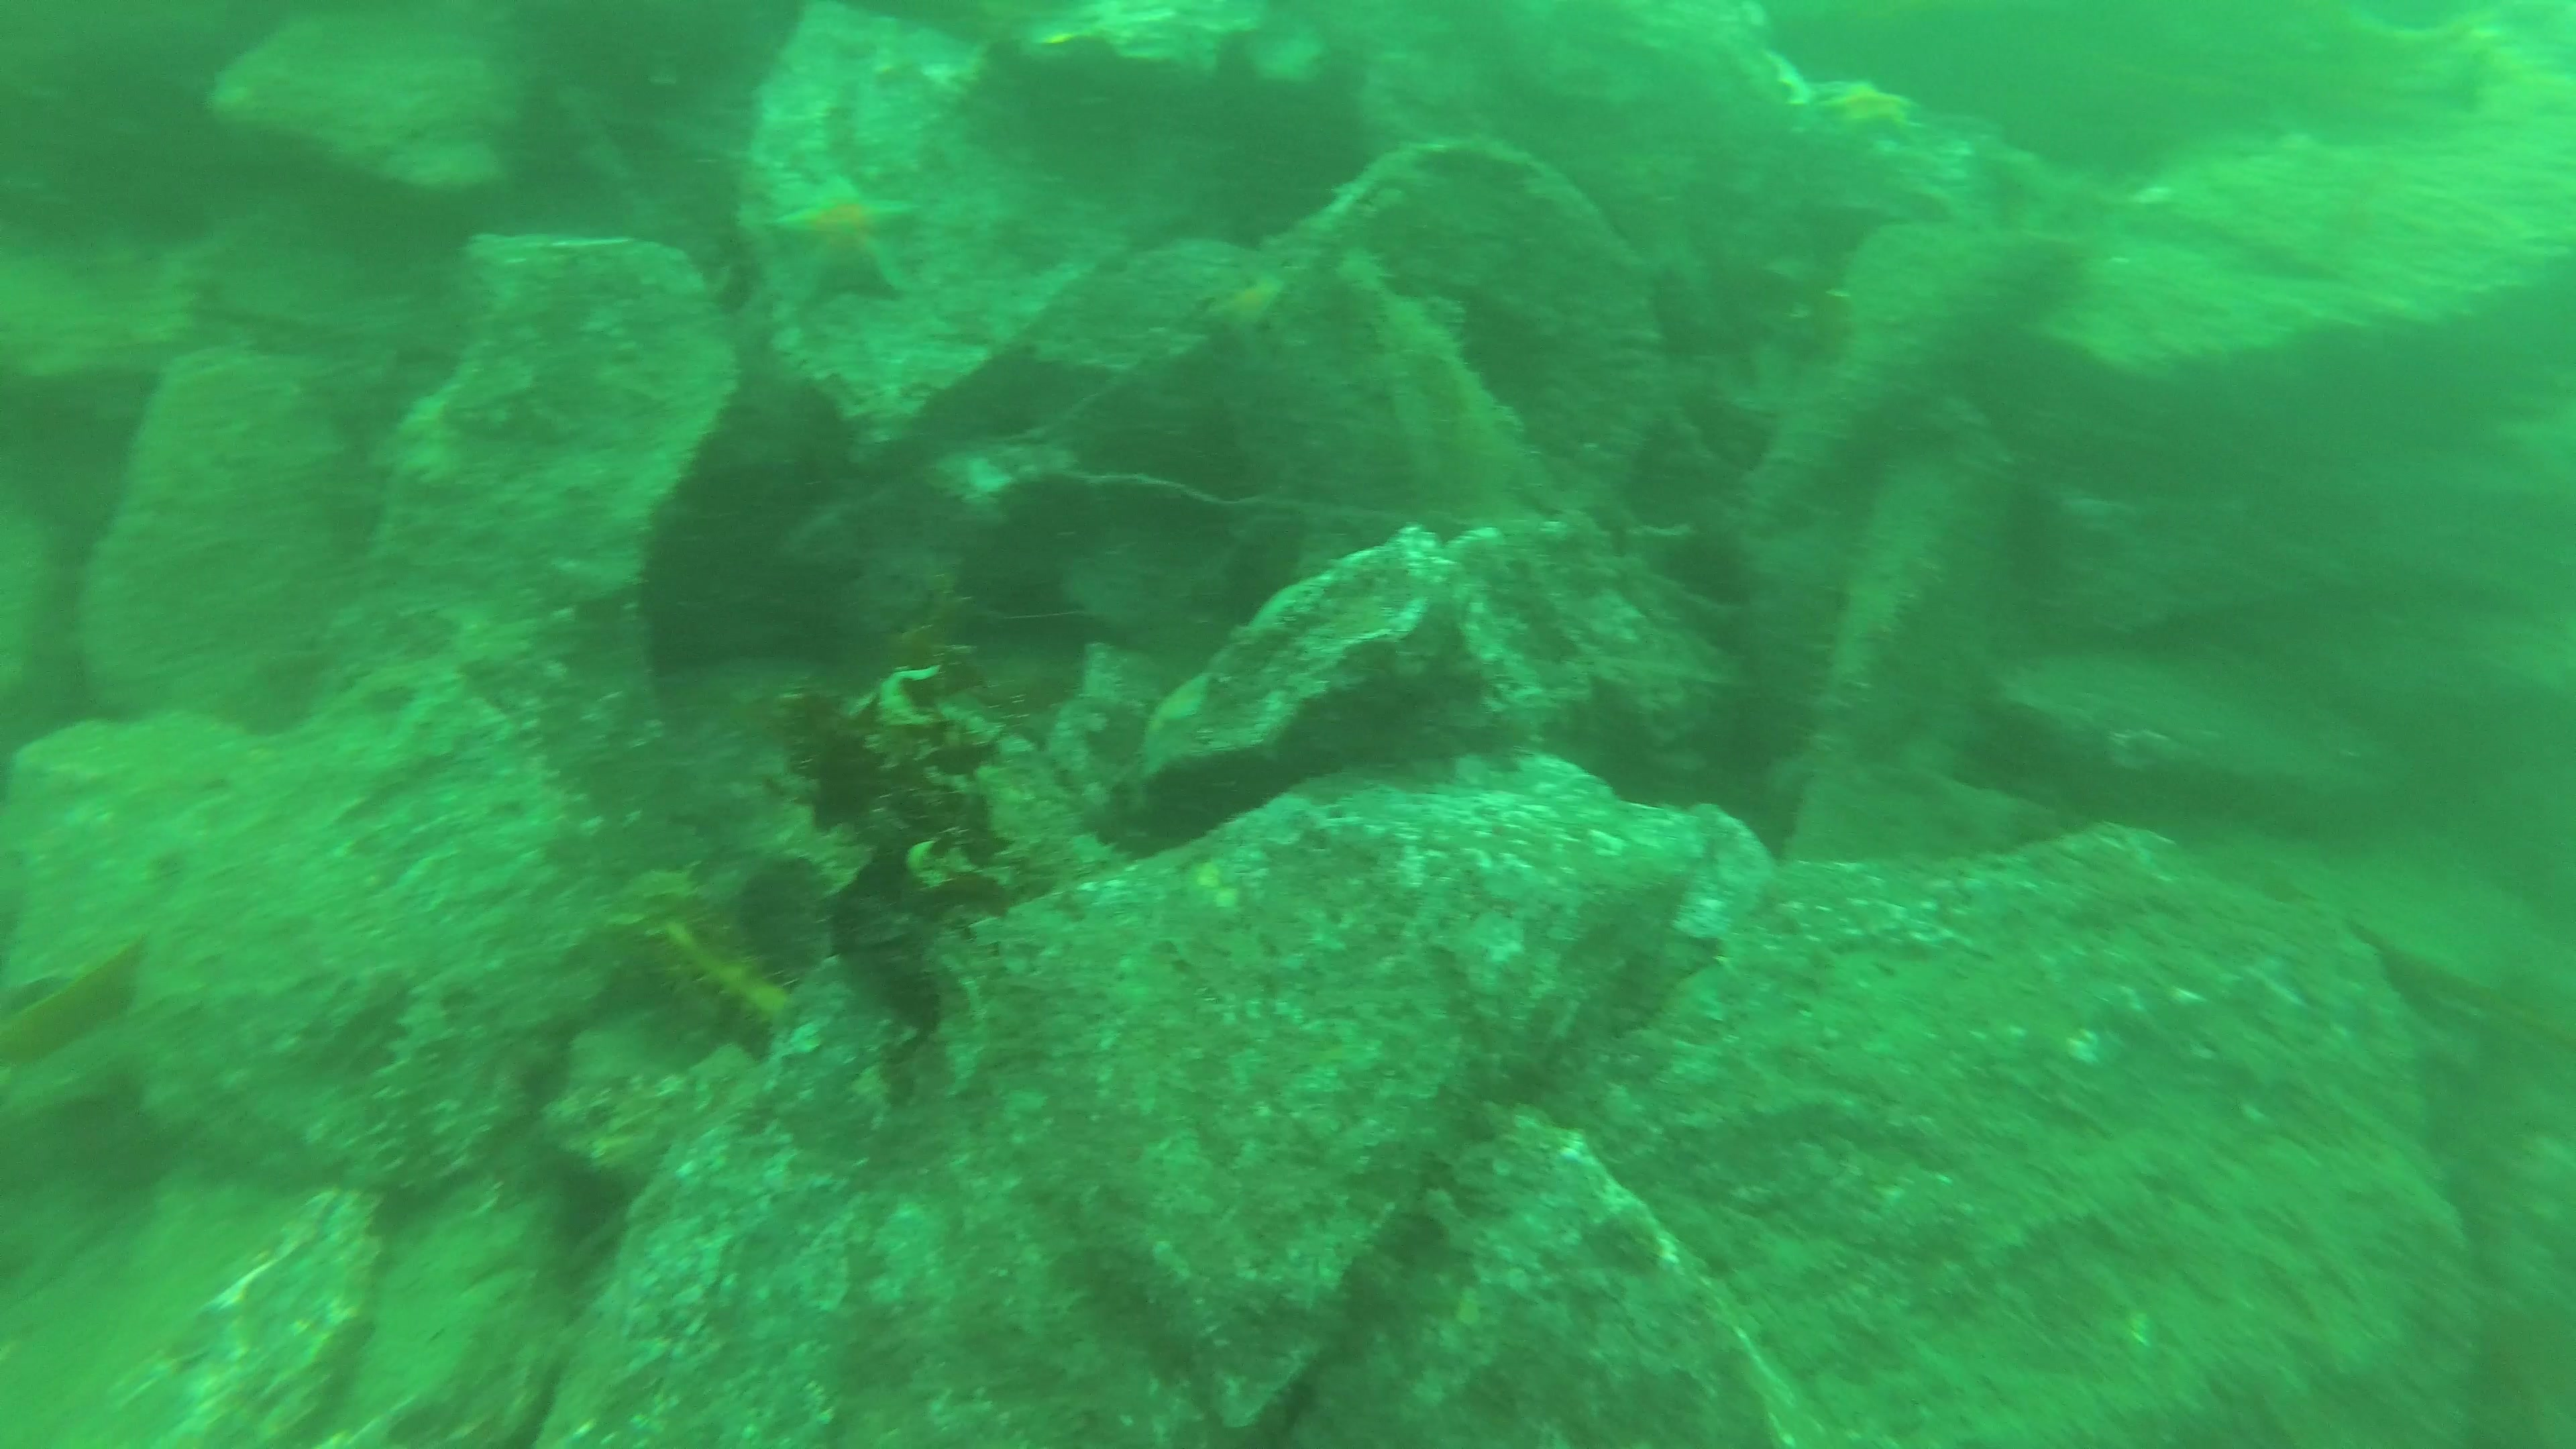holothurian: (1339, 246, 1522, 511), (366, 975, 462, 1196)
starfish: (764, 170, 918, 310), (1819, 76, 1923, 145)
